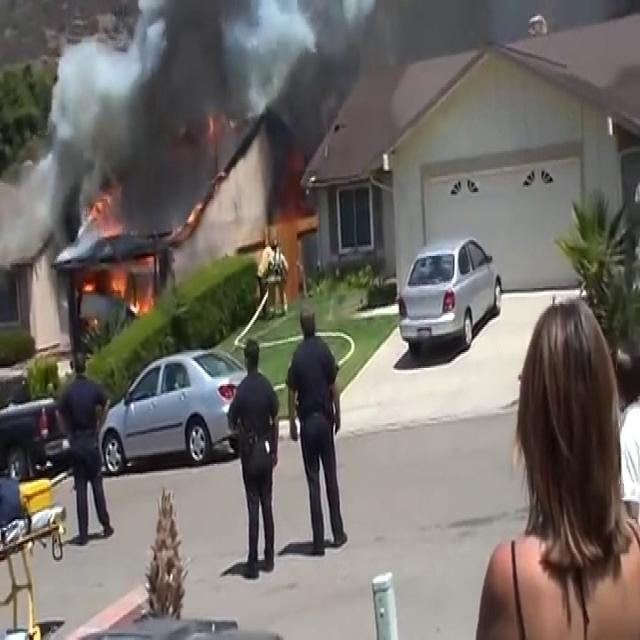Fire: (110, 268, 152, 317)
Smoke: (24, 0, 308, 224)
